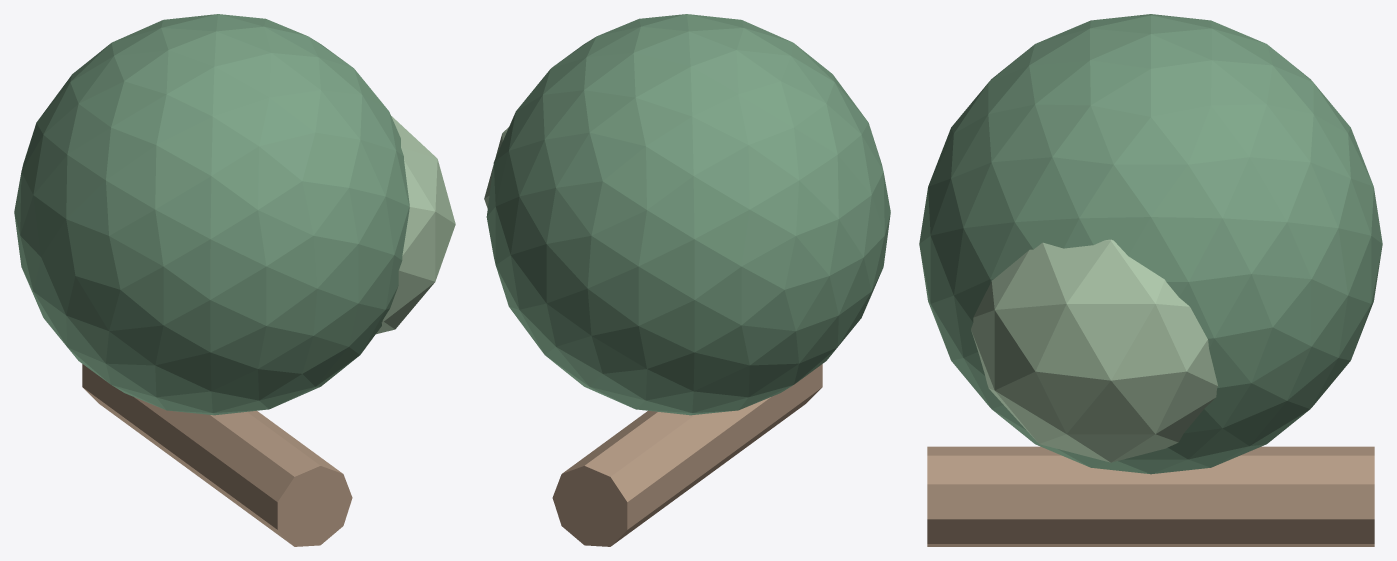
File: tree_deciduous.glb
3 views of the same model, side by side, from view 1: azimuth 30°, elevation 25°; view 2: azimuth 150°, elevation 25°; view 3: azimuth 270°, elevation 25° (orthographic). The views are drawn at different scales.
Parts seen in each view (by area): view 1: part_01, part_00, part_02; view 2: part_01, part_00; view 3: part_01, part_00, part_02.
Boxes of the visible parts, x1=… form: part_01: x1=14, y1=14, x2=409, y2=415; part_00: x1=82, y1=364, x2=352, y2=546; part_02: x1=376, y1=116, x2=455, y2=334; part_01: x1=486, y1=14, x2=890, y2=415; part_00: x1=552, y1=364, x2=822, y2=546; part_01: x1=919, y1=14, x2=1382, y2=474; part_00: x1=927, y1=446, x2=1374, y2=546; part_02: x1=971, y1=239, x2=1217, y2=462.
Bounding box in the file's own units: 3.15 × 3.52 × 2.9.
